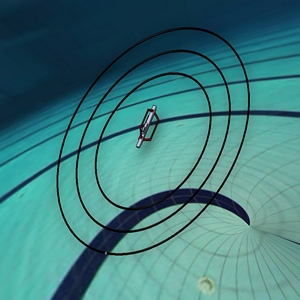circle: (47, 18, 259, 263)
submarine: (129, 99, 171, 151)
